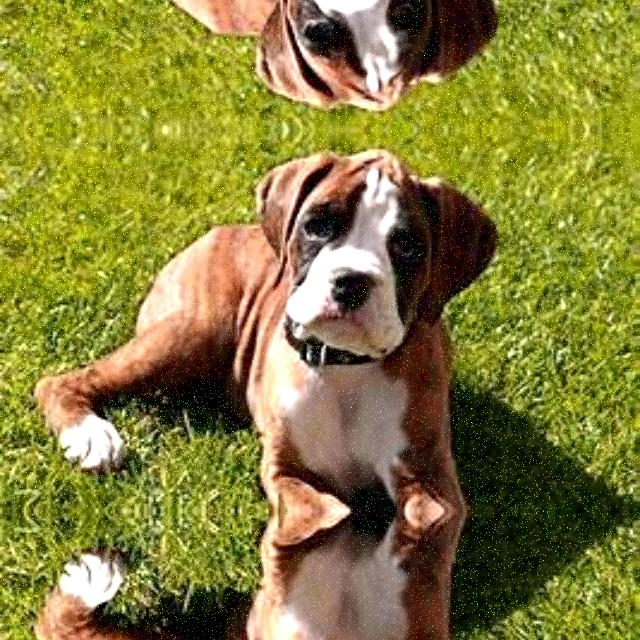dog: (46, 140, 514, 510), (46, 510, 514, 640), (46, 0, 514, 118)
